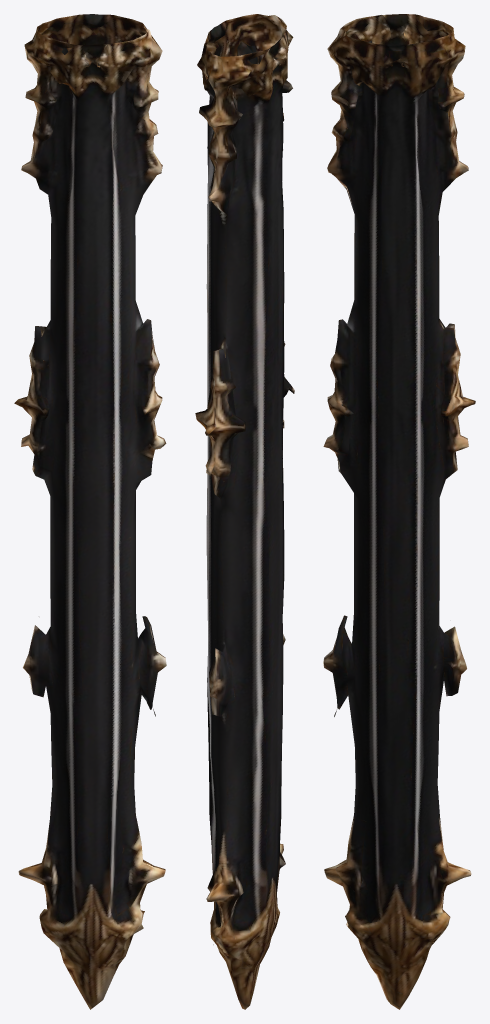
File: scabbard.glb
The picture shows the model from 3 angles, left to right: view 1: azimuth 90°, elevation 25°; view 2: azimuth 150°, elevation 25°; view 3: azimuth 270°, elevation 25°; orthographic projection.
Visible parts, largest first — view 1: KatanaScabbard; view 2: KatanaScabbard; view 3: KatanaScabbard.
Boxes of the visible parts, left/top/right/bottom form: KatanaScabbard: left=14, top=14, right=166, bottom=1009; KatanaScabbard: left=195, top=14, right=294, bottom=1009; KatanaScabbard: left=323, top=14, right=475, bottom=1009.
Bounding box in the file's own units: 0.0596 × 0.735 × 0.1036.
1 material, 1 textured.
